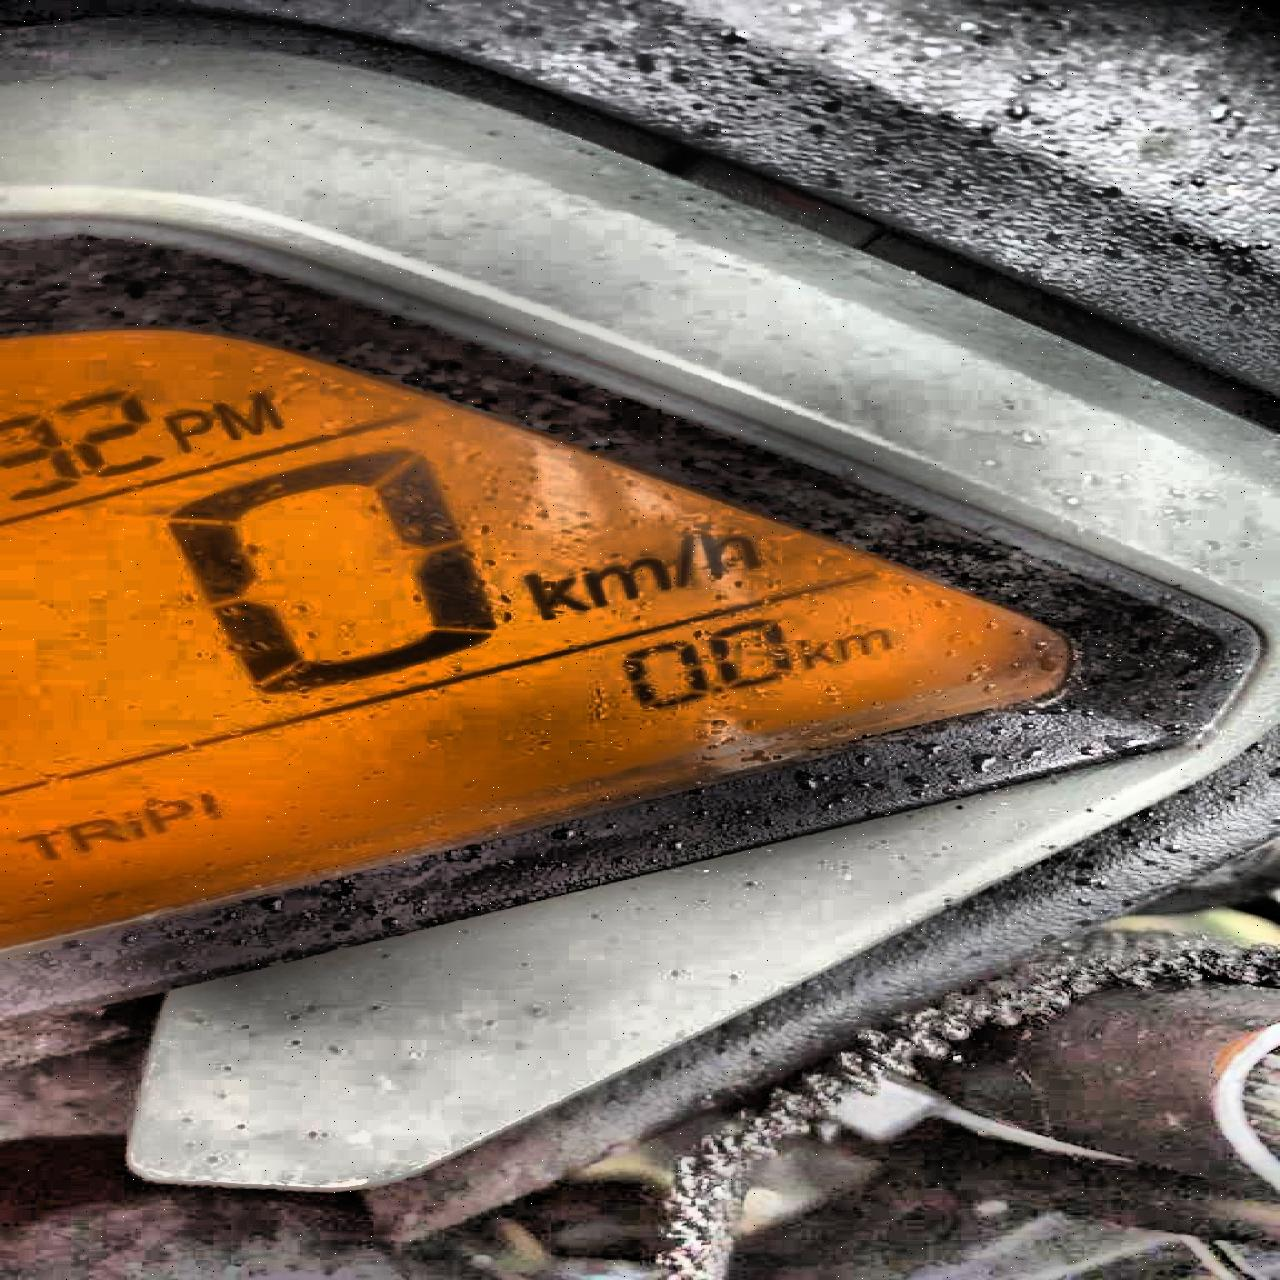-: (709, 679, 724, 697)
0: (162, 454, 491, 695), (707, 619, 794, 689), (620, 640, 707, 706)
1: (196, 784, 233, 824)
2: (55, 384, 164, 475)
9: (0, 410, 76, 501)
X: (583, 558, 667, 602), (209, 393, 287, 437), (697, 525, 767, 576), (520, 566, 587, 618), (162, 408, 211, 451), (62, 821, 124, 849), (833, 631, 896, 658), (142, 797, 191, 831), (672, 531, 697, 586), (13, 829, 57, 859), (796, 636, 833, 667), (117, 806, 147, 836)
odometer: (0, 318, 1087, 958)
